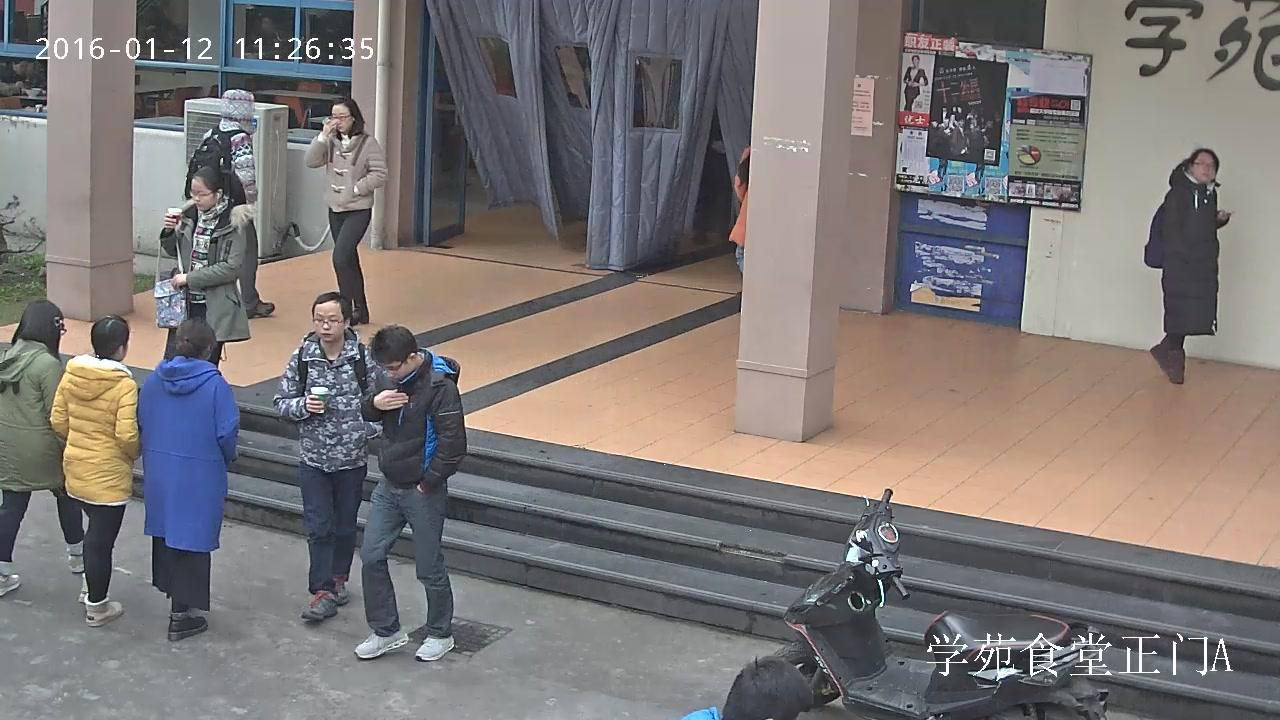person: (352, 326, 465, 660), (271, 291, 377, 618), (136, 318, 240, 640), (50, 315, 136, 627), (0, 300, 83, 598), (185, 89, 275, 318), (154, 165, 251, 371), (1143, 148, 1228, 383), (304, 97, 388, 327), (902, 54, 927, 111)
